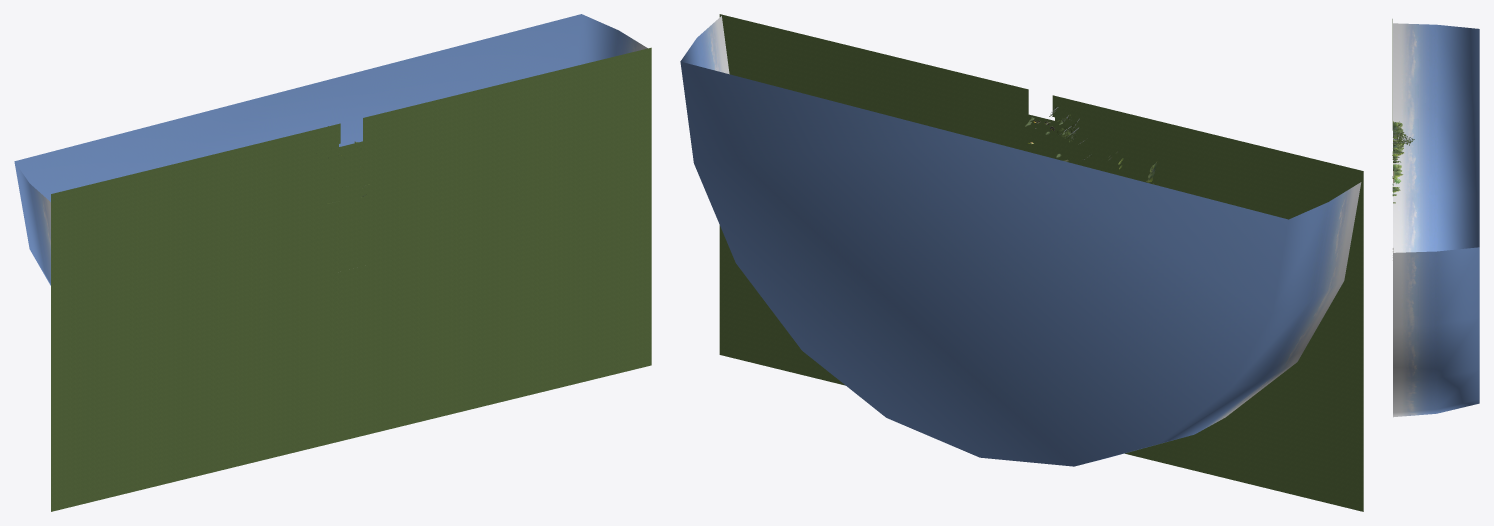
The model's file is sky_set.dae.
3 views of the same model, side by side, from view 1: azimuth 30°, elevation 25°; view 2: azimuth 150°, elevation 25°; view 3: azimuth 270°, elevation 25° (orthographic). The views are drawn at different scales.
Visible parts, largest first — view 1: GrassSShape3, SkyShape; view 2: SkyShape, GrassSShape3; view 3: SkyShape, Tree_Plane_Shape01, BirchShape.
Part boxes in pixels (bbox=[...]): GrassSShape3: bbox=[51, 47, 651, 511]; SkyShape: bbox=[14, 14, 647, 285]; SkyShape: bbox=[680, 16, 1361, 466]; GrassSShape3: bbox=[719, 14, 1363, 511]; SkyShape: bbox=[1393, 23, 1479, 417]; Tree_Plane_Shape01: bbox=[1392, 121, 1404, 203]; BirchShape: bbox=[1395, 130, 1414, 154].
Size of the model in its own units: 30612 by 4725 by 15482.
9 materials, 9 textured.
